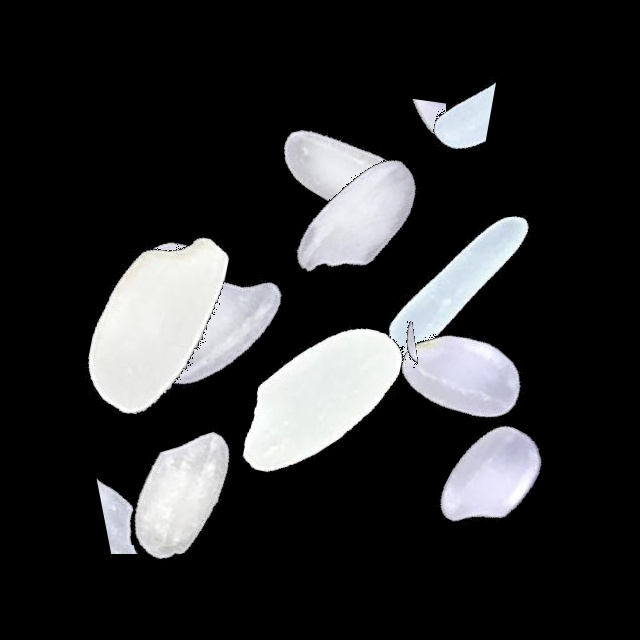Broken: (36, 178, 286, 343), (307, 34, 557, 154), (29, 449, 279, 554), (86, 156, 175, 406), (361, 15, 446, 265), (253, 321, 503, 398)
Full: (332, 167, 582, 417), (87, 201, 337, 451), (223, 43, 473, 293), (234, 98, 484, 348), (338, 248, 588, 498), (368, 353, 618, 603), (60, 372, 310, 622), (197, 275, 447, 525), (29, 199, 279, 449)
